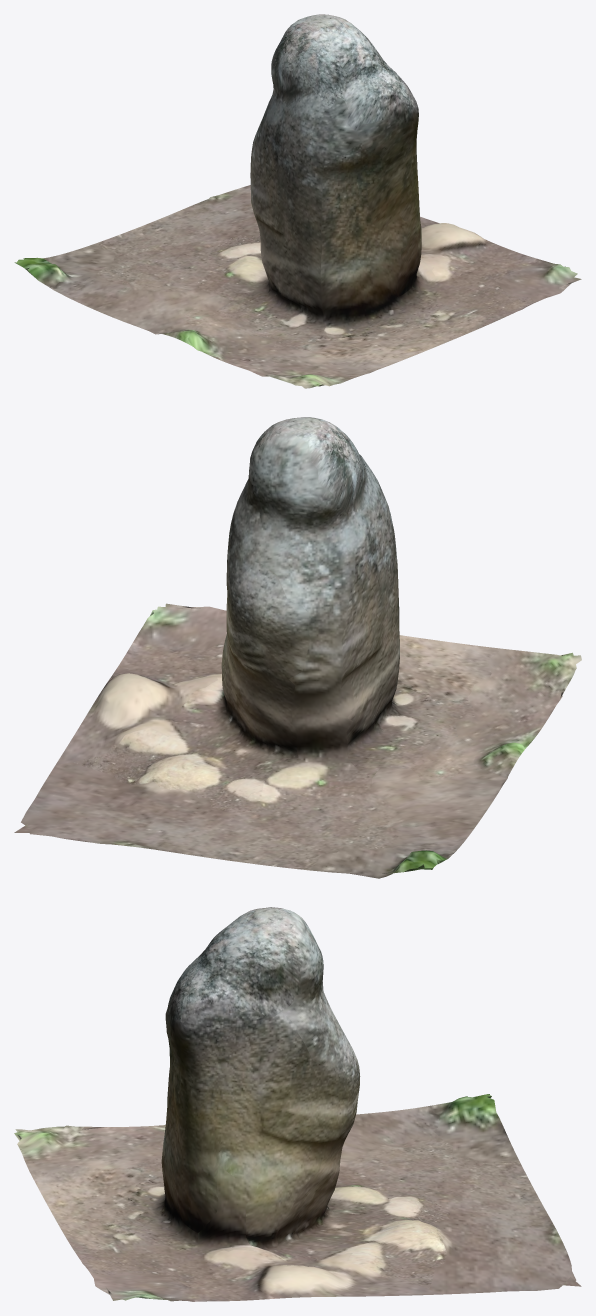
The picture shows the model from 3 angles, top to bottom: view 1: azimuth 30°, elevation 25°; view 2: azimuth 150°, elevation 25°; view 3: azimuth 270°, elevation 25°; orthographic projection. The views are drawn at different scales.
Visible parts, largest first — view 1: Object; view 2: Object; view 3: Object.
Part boxes in pixels (left/top/right/bottom): Object: left=14, top=14, right=581, bottom=388; Object: left=14, top=417, right=581, bottom=878; Object: left=14, top=907, right=581, bottom=1301.
Size of the model in its own units: 1.42 by 0.9505 by 1.56.
1 material, 1 textured.
